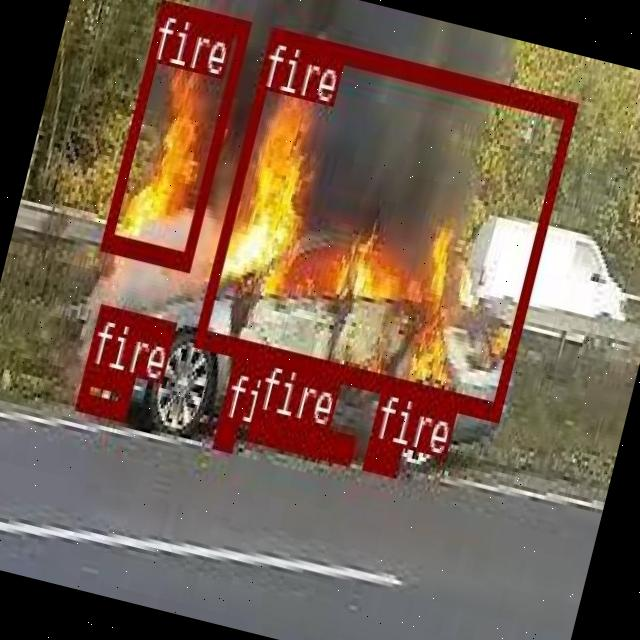fire: (192, 26, 575, 418), (98, 0, 249, 268), (246, 408, 354, 461), (74, 362, 134, 417), (362, 436, 400, 472), (211, 415, 237, 448)
